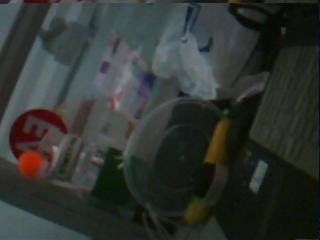oball: (17, 150, 43, 178)
